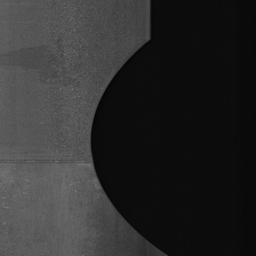Crescent gap: (91, 24, 165, 254)
